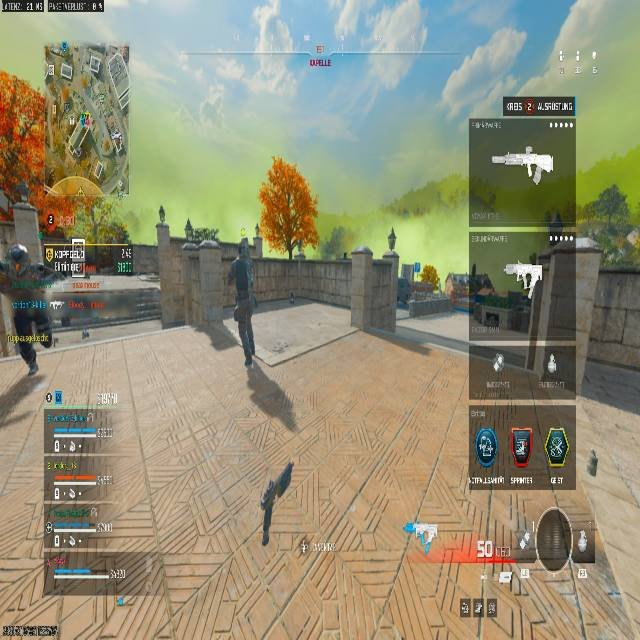head: (7, 243, 30, 271), (239, 238, 252, 254)
player: (0, 243, 54, 378), (226, 242, 257, 367), (469, 270, 500, 328), (288, 290, 295, 304)
